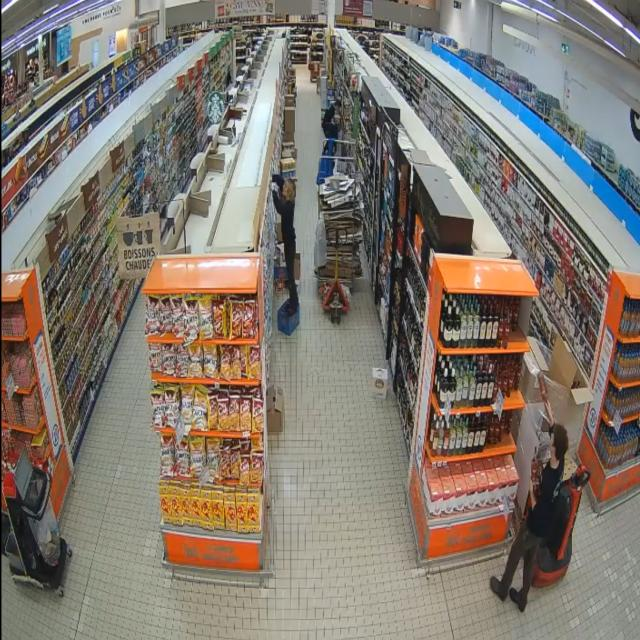article: (537, 371, 548, 402), (535, 459, 543, 496), (531, 447, 538, 481)
hands: (530, 482, 536, 508), (544, 400, 552, 417), (272, 187, 280, 200), (272, 175, 276, 183)
person: (490, 425, 568, 612), (272, 175, 298, 315)
